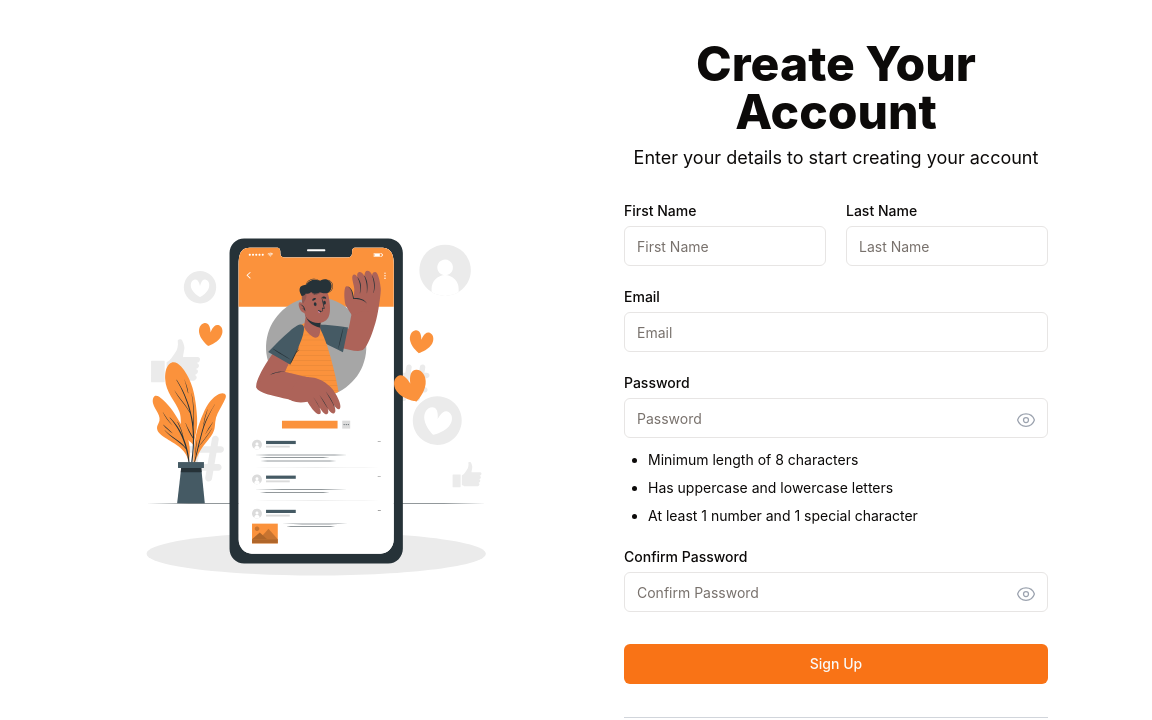
Scenario: SignUp Page › should show error message on signup failure
Type "Test" into the field with test id "first-name" at x=725, y=246, box [624, 226, 826, 266]
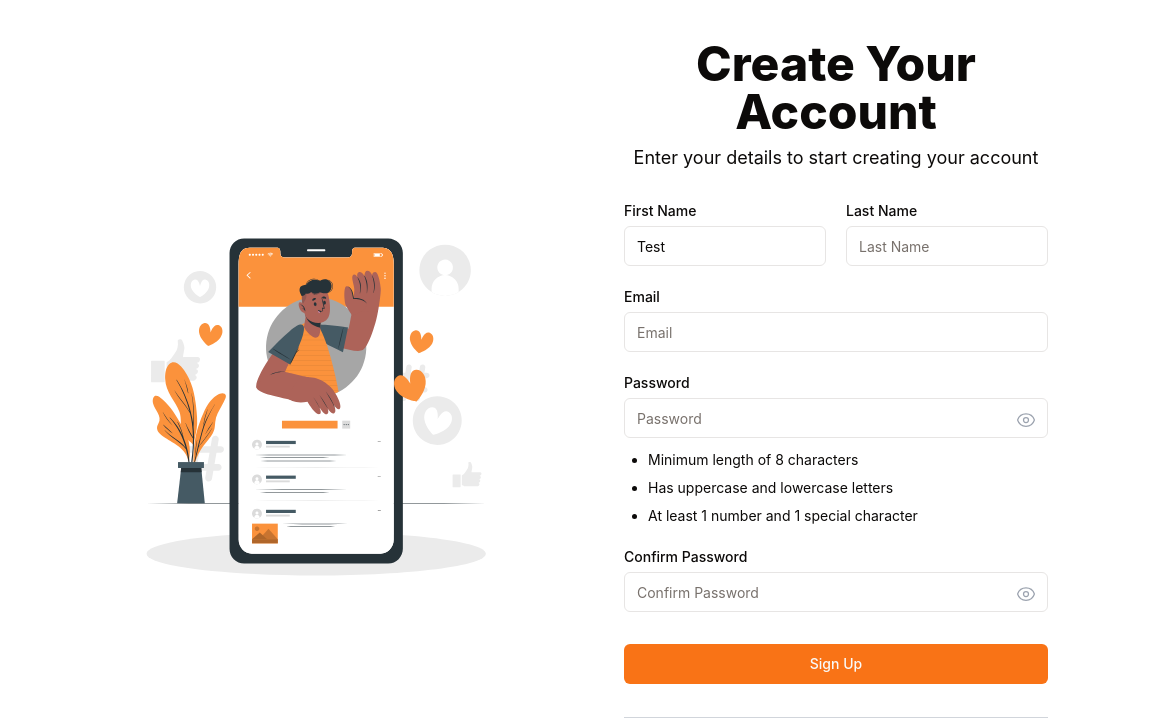
Type "learner" into the field with test id "last-name" at x=947, y=246, box [846, 226, 1048, 266]
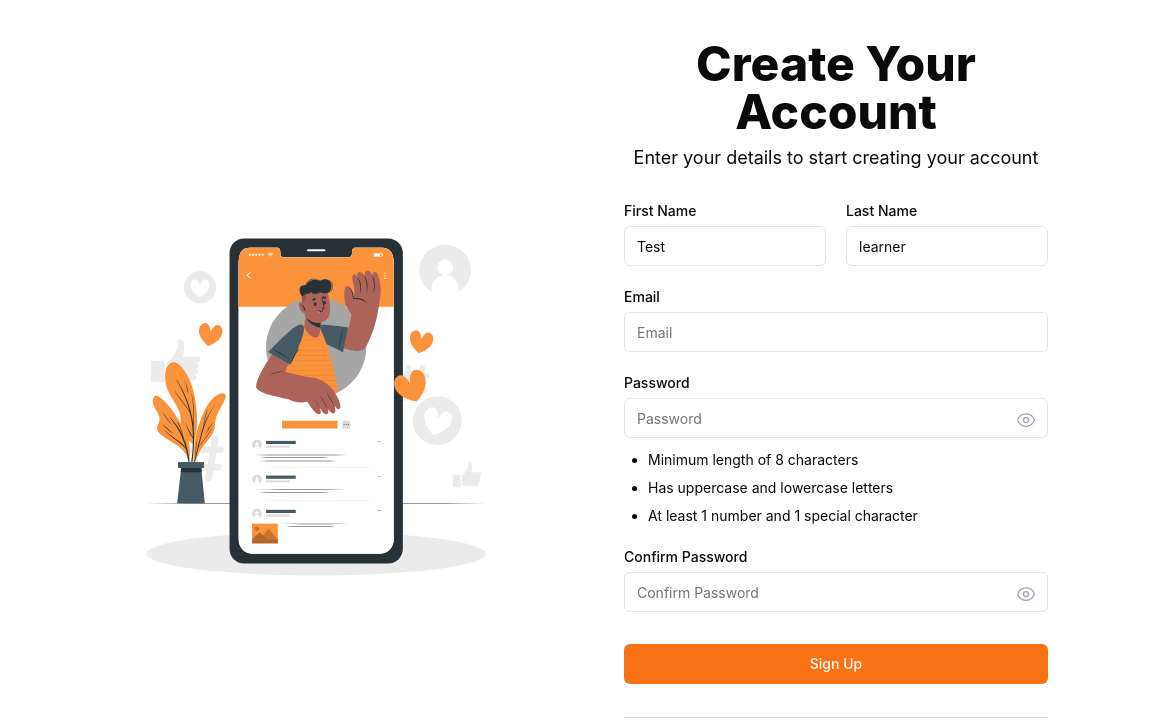
Clear the password field with test id "confirm-password" at x=836, y=592, box [624, 572, 1048, 612]
Click the button with test id "signup-button" at x=836, y=664, box [624, 644, 1048, 684]
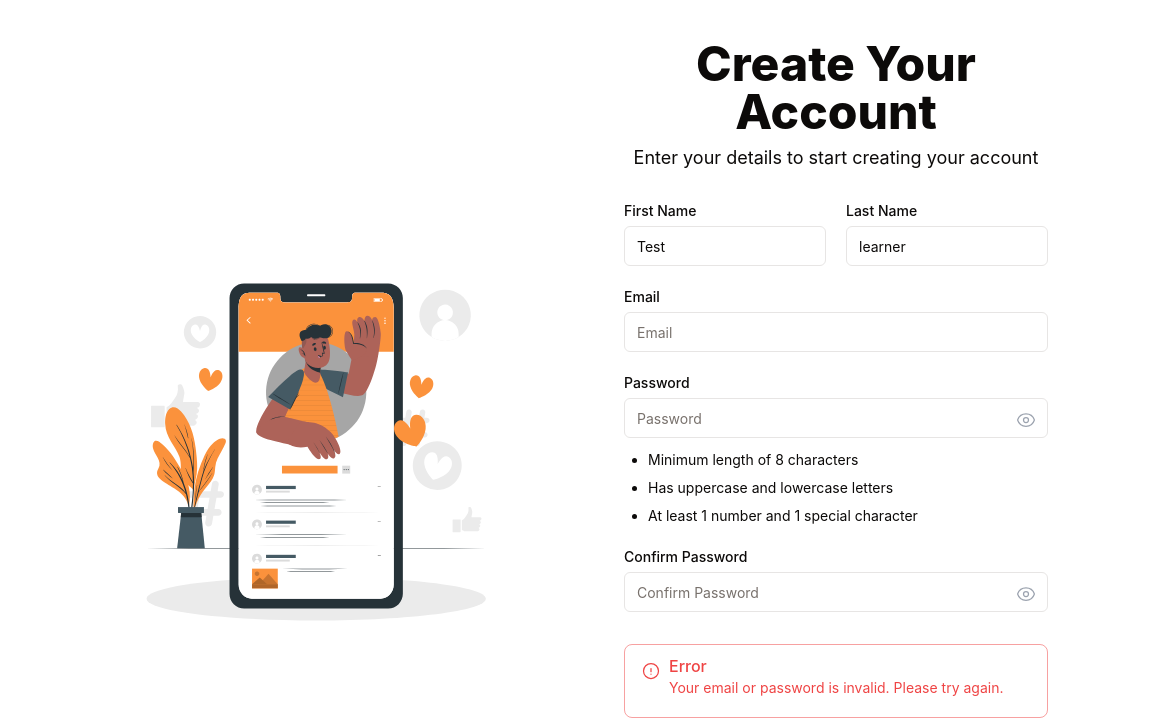
expect the text "Your email or password is invalid. Please try again." is shown: met, box [669, 678, 1003, 698]
